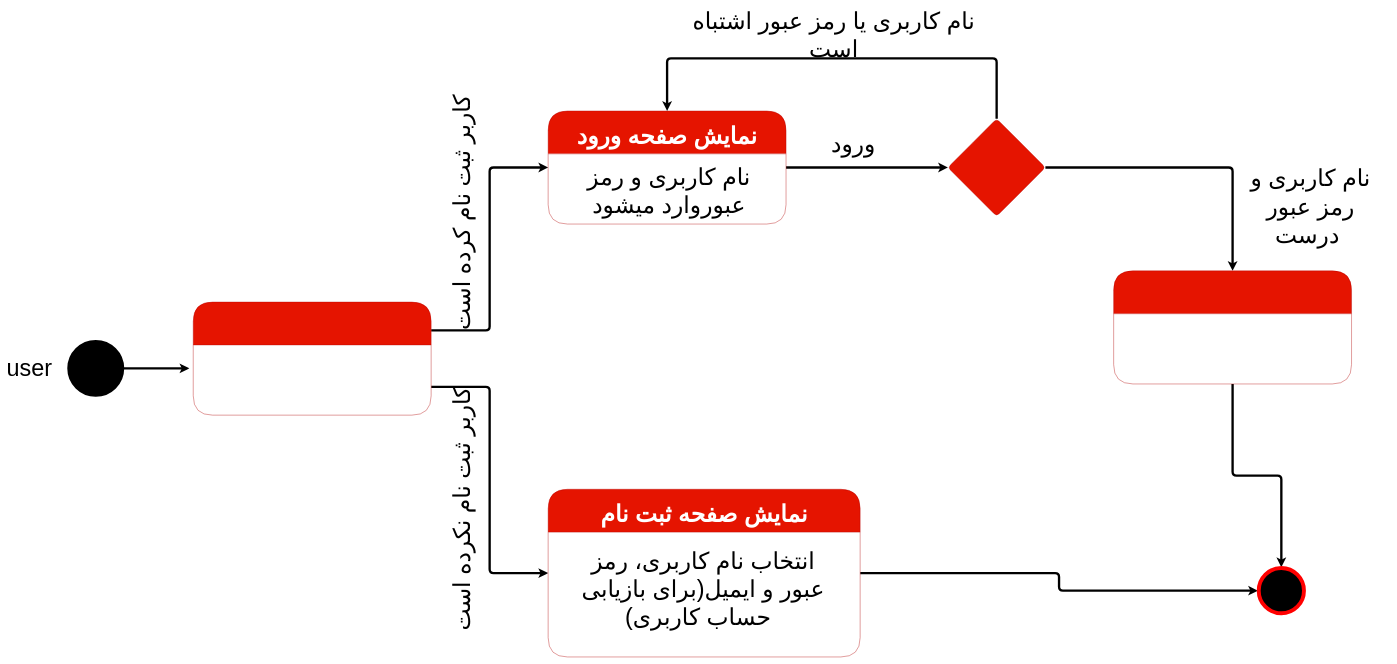
The diagram is 1397 pixels wide and 664 high, and some of its shapes have lost their labels. Here are the shapes that lost their labels. From the top down, the centre of each, then its label:
(x=1232, y=327): با موفقیت وارد شد
(x=312, y=358): باز کردن برنامه
